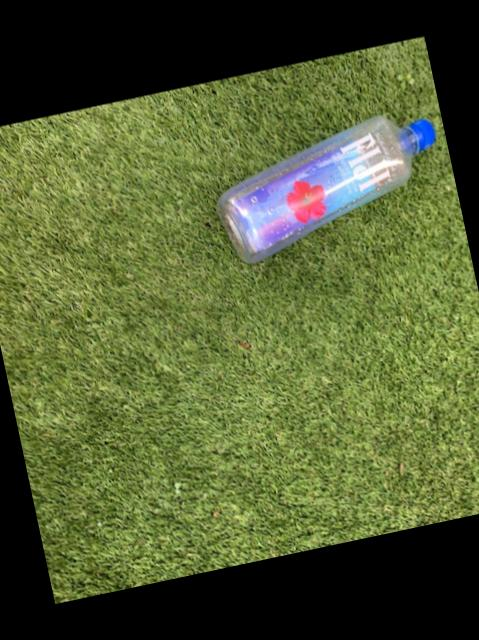plastic: (214, 118, 432, 264)
